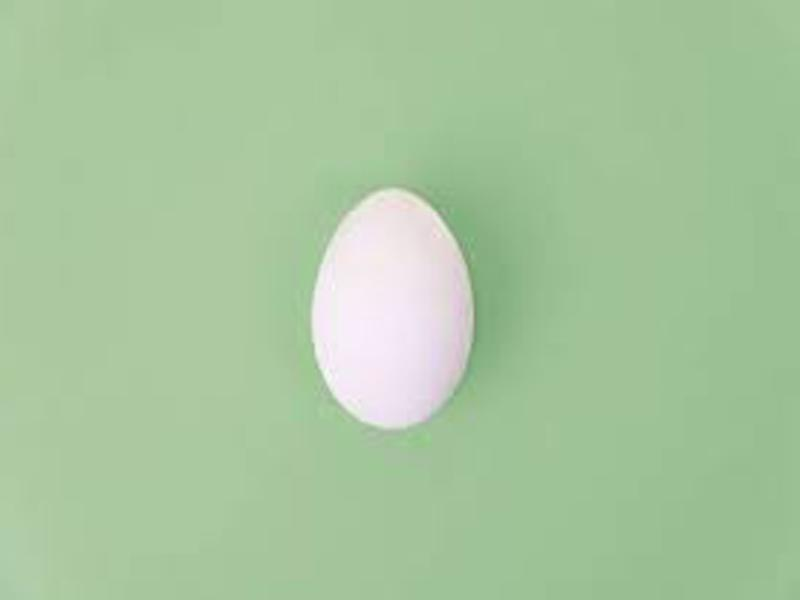Eggs: (311, 188, 476, 432)
